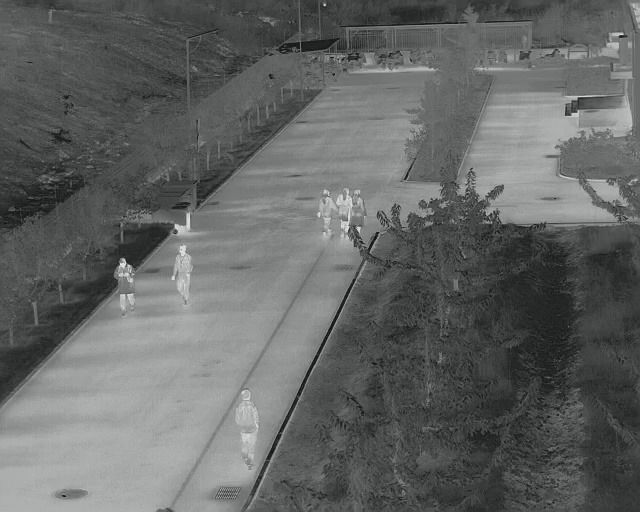person: (233, 387, 261, 472), (169, 243, 194, 308), (112, 256, 138, 318), (315, 187, 336, 236), (337, 185, 350, 239), (351, 188, 368, 228)
